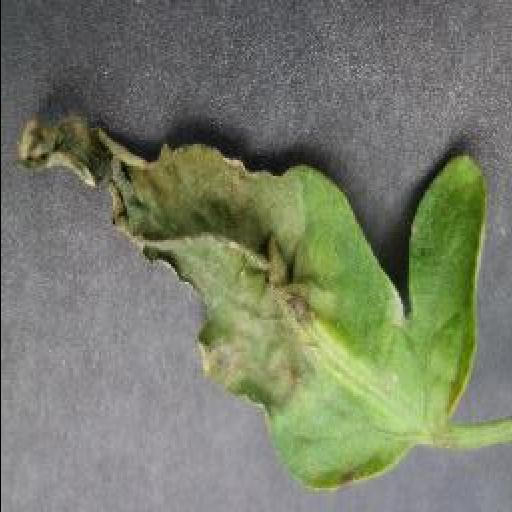disease_tomato: (18, 112, 488, 494)
